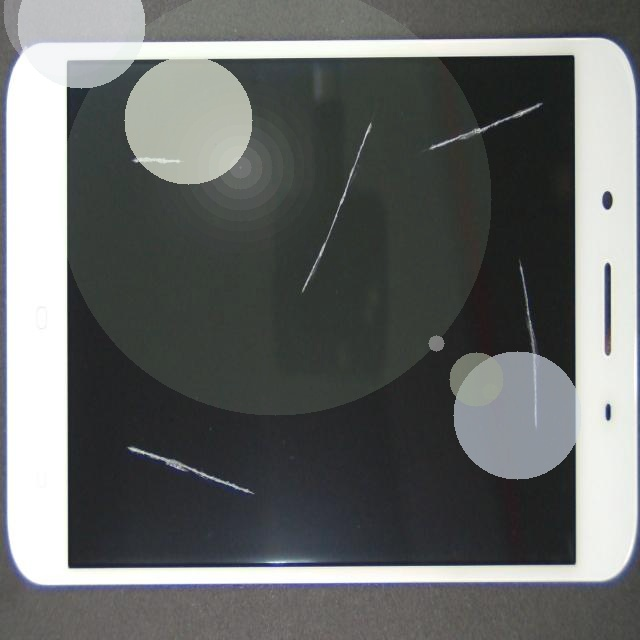scratch: (242, 17, 640, 481), (222, 0, 516, 251), (203, 277, 328, 640), (348, 25, 640, 149), (106, 93, 285, 231)
